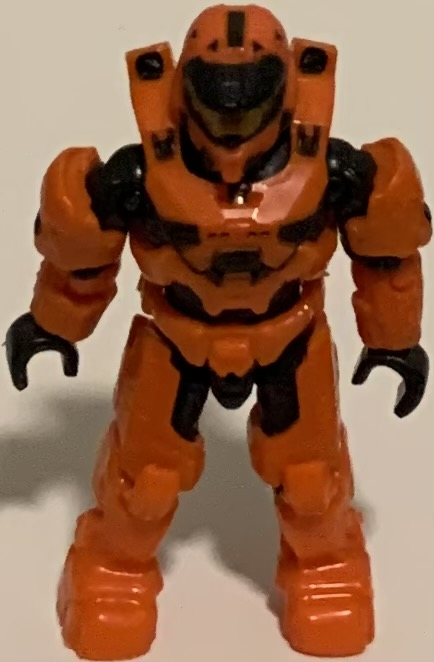down: (5, 2, 434, 662)
spartan: (3, 1, 432, 661)
